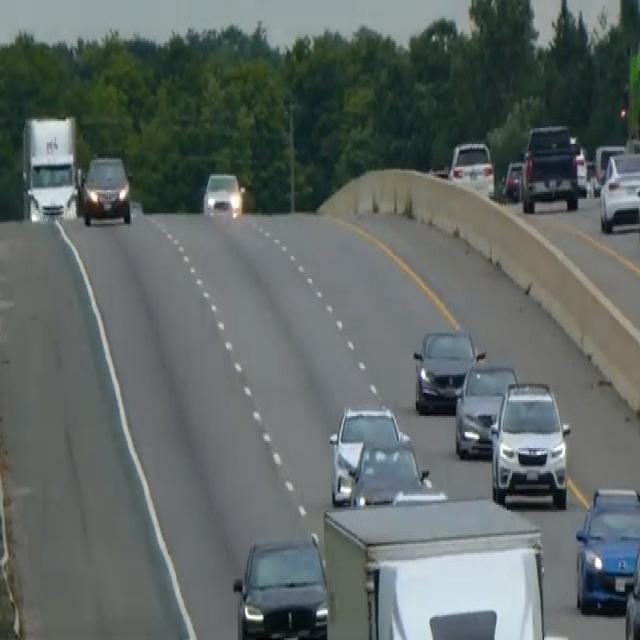car: (232, 530, 328, 638), (574, 484, 639, 614), (328, 402, 405, 503), (348, 434, 446, 508), (454, 356, 519, 458), (412, 324, 480, 414), (81, 151, 132, 226), (598, 149, 639, 233), (448, 137, 495, 195), (202, 169, 242, 220), (591, 140, 625, 196), (624, 528, 639, 638), (569, 134, 588, 196), (503, 158, 524, 201)
jeep: (488, 377, 572, 510), (519, 121, 581, 215)
lorry: (19, 110, 83, 222)
